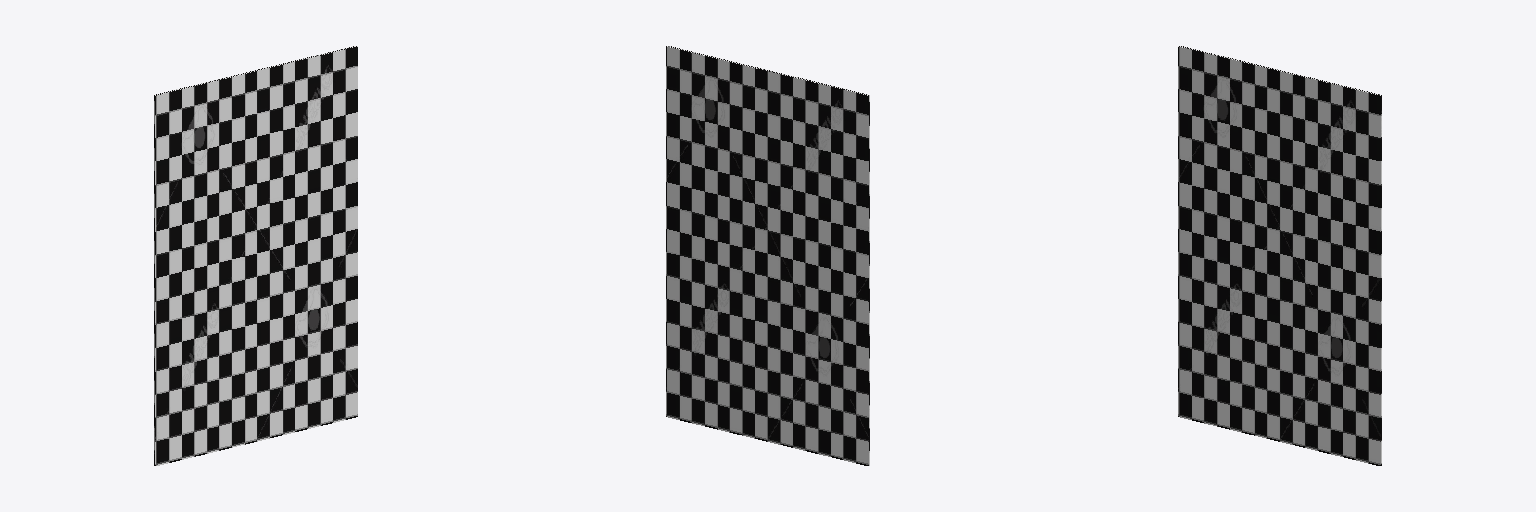
The picture shows the model from 3 angles: view 1: azimuth 30°, elevation 25°; view 2: azimuth 150°, elevation 25°; view 3: azimuth 330°, elevation 25°; orthographic projection.
Parts seen in each view (by area): view 1: Cube.001; view 2: Cube.001; view 3: Cube.001.
Part boxes in pixels (x1,y1,x2,y2): Cube.001: (154,46,357,465); Cube.001: (666,46,869,465); Cube.001: (1178,46,1381,465).
Bounding box in the file's own units: 10 × 17.5 × 0.1111.
Materials: 1 (1 with a texture image).